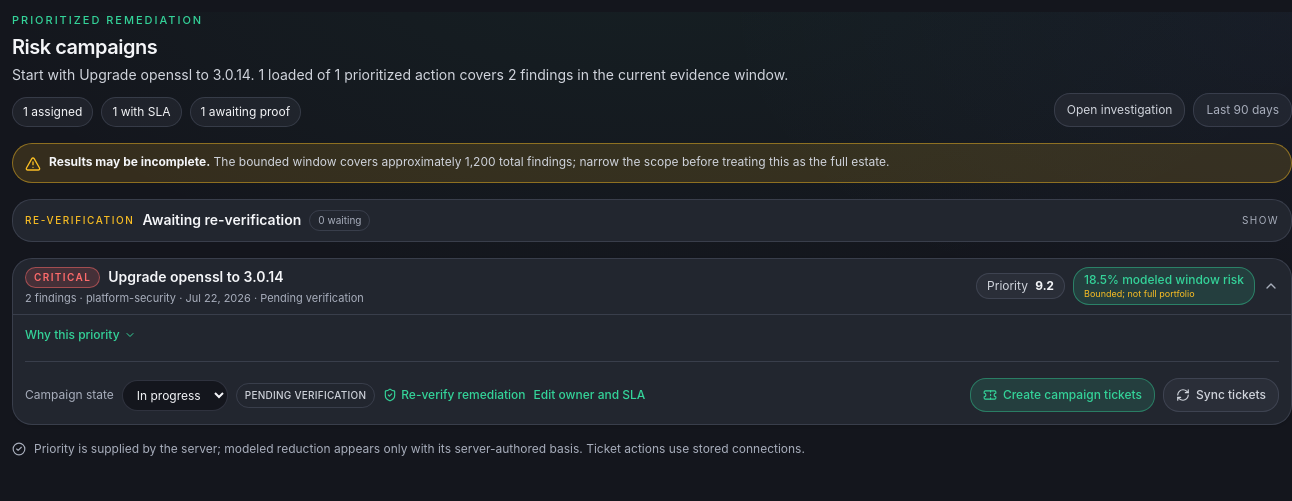
Test: RiskCampaignCommandCenter › continues bounded ticket batches and preserves cumulative partial progress
Expected: the heading "Upgrade openssl to 3.0.14" is shown, [108,267,284,287]
Click the button "Create campaign tickets" at coordinates (1062, 395), box [970,378,1155,412]
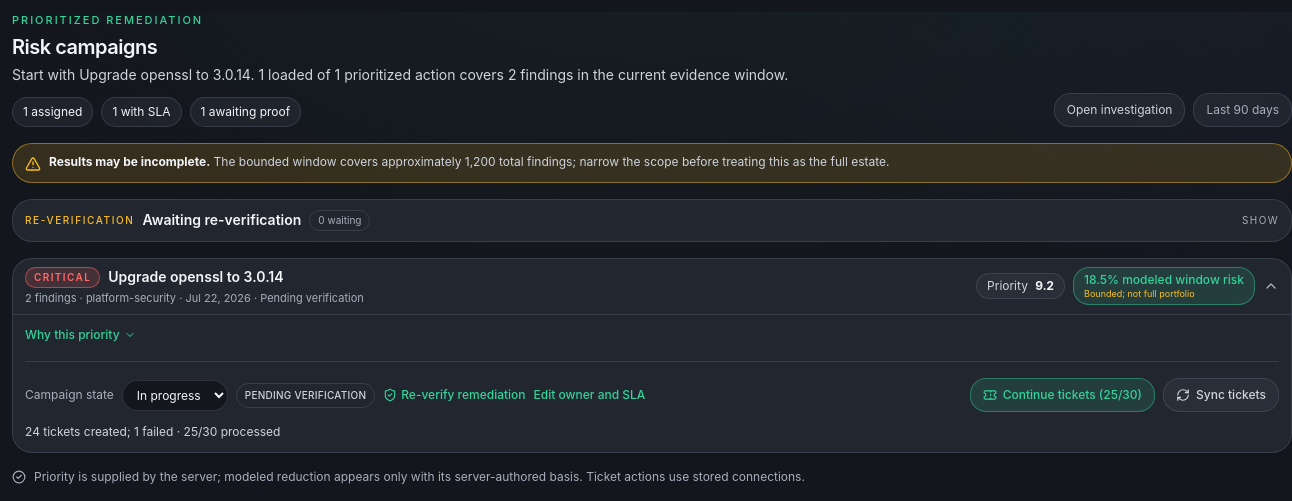
Now the button "Continue tickets (25/30)" is shown
Click the button "Continue tickets (25/30)" at coordinates (1062, 395), box [970,378,1155,412]
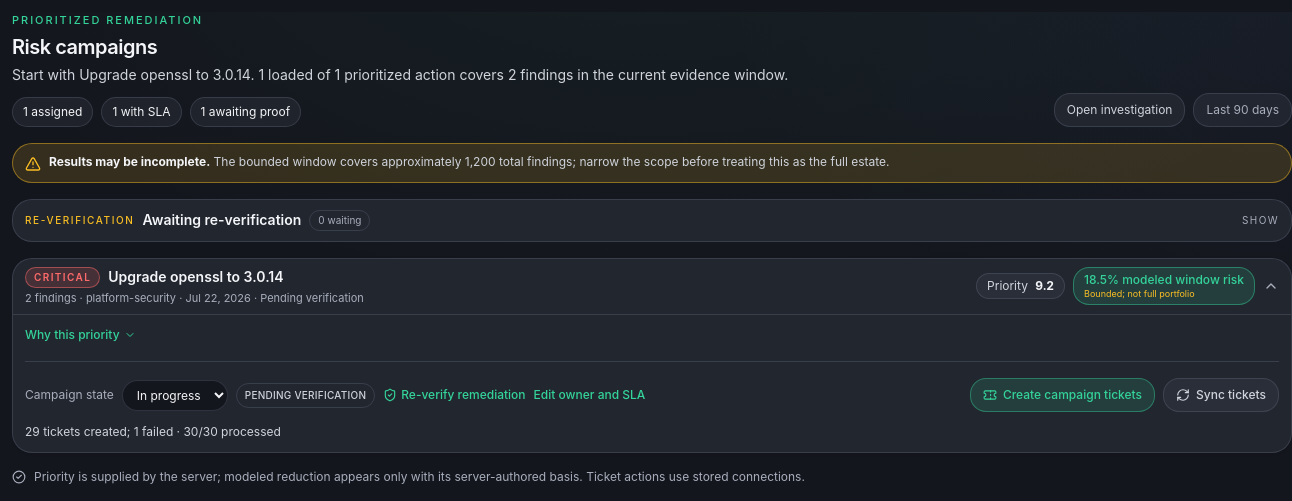
Now the text "29 tickets created; 1 failed · 30/30 processed" is shown, box [25,424,281,439]
